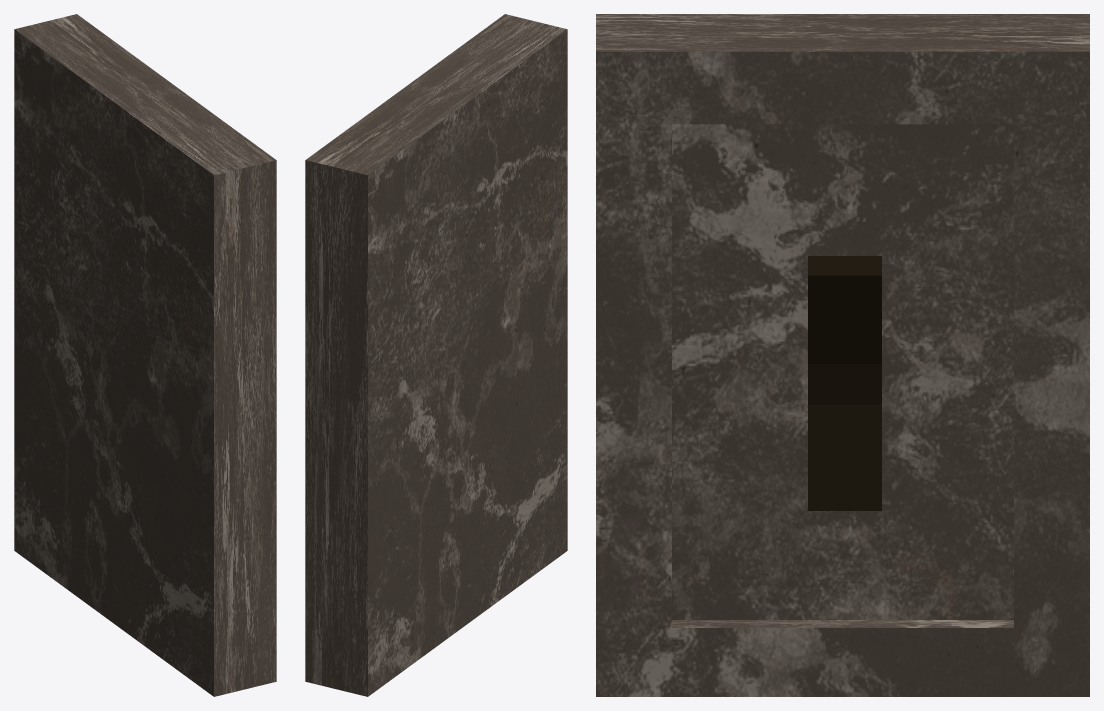
The model's file is ışıkaçma.fbx.
The picture shows the model from 3 angles, left to right: view 1: azimuth 30°, elevation 25°; view 2: azimuth 150°, elevation 25°; view 3: azimuth 270°, elevation 25°; orthographic projection. The views are drawn at different scales.
Visible parts, largest first — view 1: Cube; view 2: Cube; view 3: Cube, Cube.001.
Part boxes in pixels (x1,y1,x2,y2): Cube: (14, 14, 276, 696); Cube: (305, 14, 567, 696); Cube: (596, 14, 1089, 696); Cube.001: (808, 256, 881, 510).
Bounding box in the file's own units: 47.6 × 288 × 200.
Materials: 2 (1 with a texture image).
